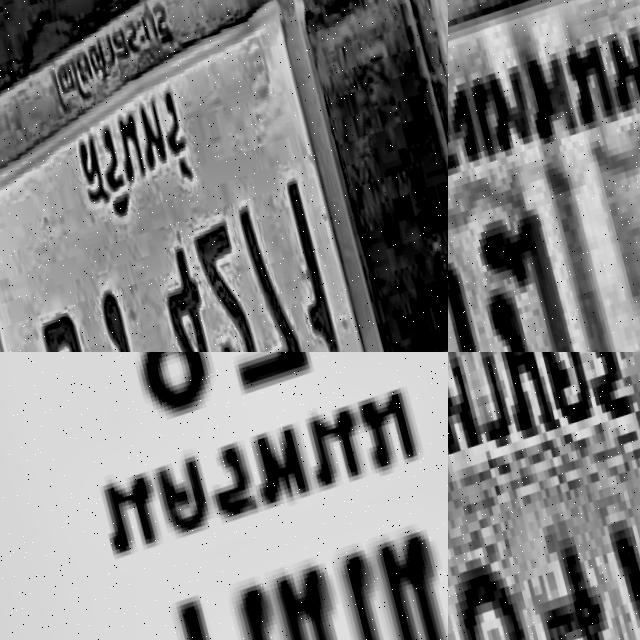license-plate: (0, 0, 434, 352), (0, 352, 448, 640), (448, 0, 640, 352), (448, 352, 640, 640)
